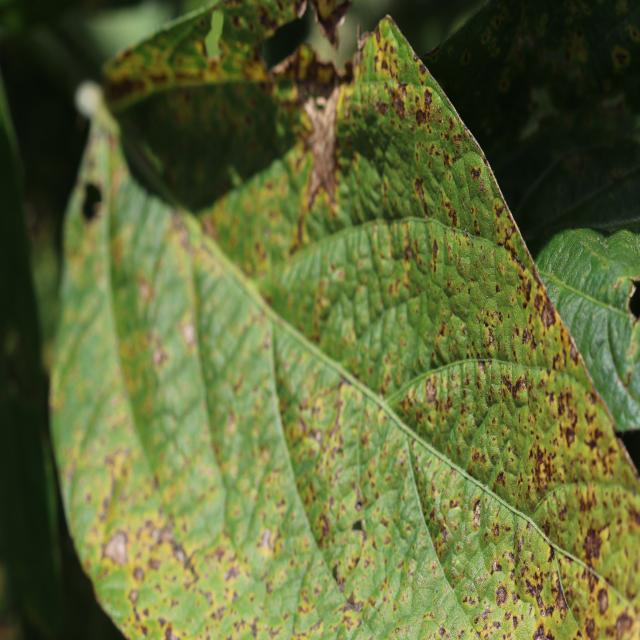Bacterial_Blight: (297, 82, 344, 218), (91, 447, 136, 529), (153, 523, 198, 579), (558, 394, 580, 454), (324, 394, 347, 447), (531, 442, 555, 490), (140, 141, 168, 179), (105, 74, 142, 102), (75, 81, 102, 118), (146, 329, 171, 368), (295, 42, 317, 81), (241, 56, 271, 84), (82, 182, 103, 220), (582, 525, 604, 558), (174, 64, 209, 83), (613, 609, 635, 639), (414, 177, 430, 217), (388, 87, 407, 118), (342, 589, 363, 613), (625, 566, 640, 599), (541, 300, 557, 330), (554, 582, 568, 614), (513, 530, 525, 567), (356, 28, 371, 56), (257, 528, 274, 552), (532, 622, 554, 640), (318, 513, 332, 541), (181, 321, 196, 346), (596, 587, 609, 615), (138, 279, 152, 304), (513, 375, 528, 398), (425, 378, 438, 404), (471, 499, 482, 528), (225, 563, 241, 582), (521, 323, 533, 347), (569, 339, 580, 365), (415, 106, 429, 126), (495, 584, 508, 605), (584, 617, 596, 639), (342, 58, 354, 80), (226, 409, 237, 431), (490, 557, 503, 575), (332, 563, 343, 584), (469, 165, 483, 181), (132, 565, 145, 582), (295, 1, 307, 19), (432, 237, 439, 267), (313, 428, 324, 446), (403, 243, 413, 262), (486, 328, 496, 347), (314, 96, 327, 110), (496, 470, 506, 487), (477, 360, 487, 377), (230, 378, 254, 385), (438, 624, 449, 637), (419, 62, 427, 75), (355, 499, 363, 512), (493, 523, 500, 537), (492, 621, 501, 630), (413, 52, 419, 62), (495, 284, 500, 293)
Soybean: (38, 0, 640, 640)
